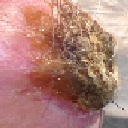Squamous Carcinoma: (25, 2, 121, 109)
